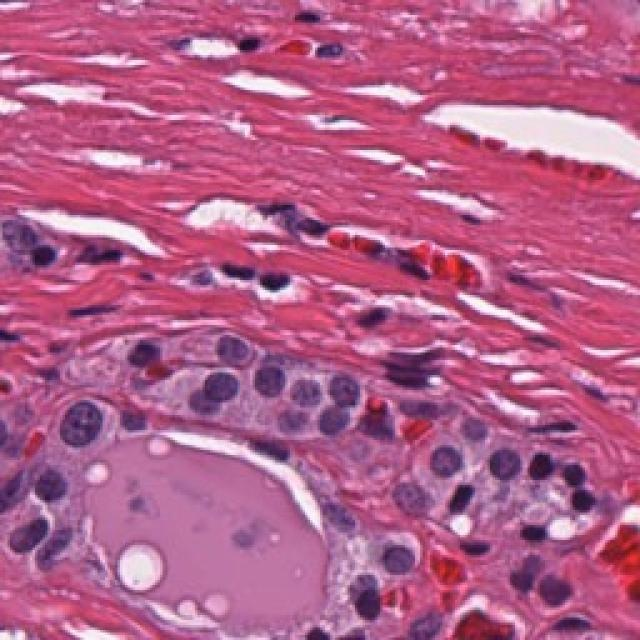normal: (362, 511, 434, 593), (41, 381, 107, 469), (234, 332, 297, 412), (264, 357, 339, 420), (479, 424, 539, 496), (326, 351, 386, 413), (16, 462, 70, 522), (420, 445, 483, 495), (206, 322, 259, 375), (448, 404, 503, 448)
